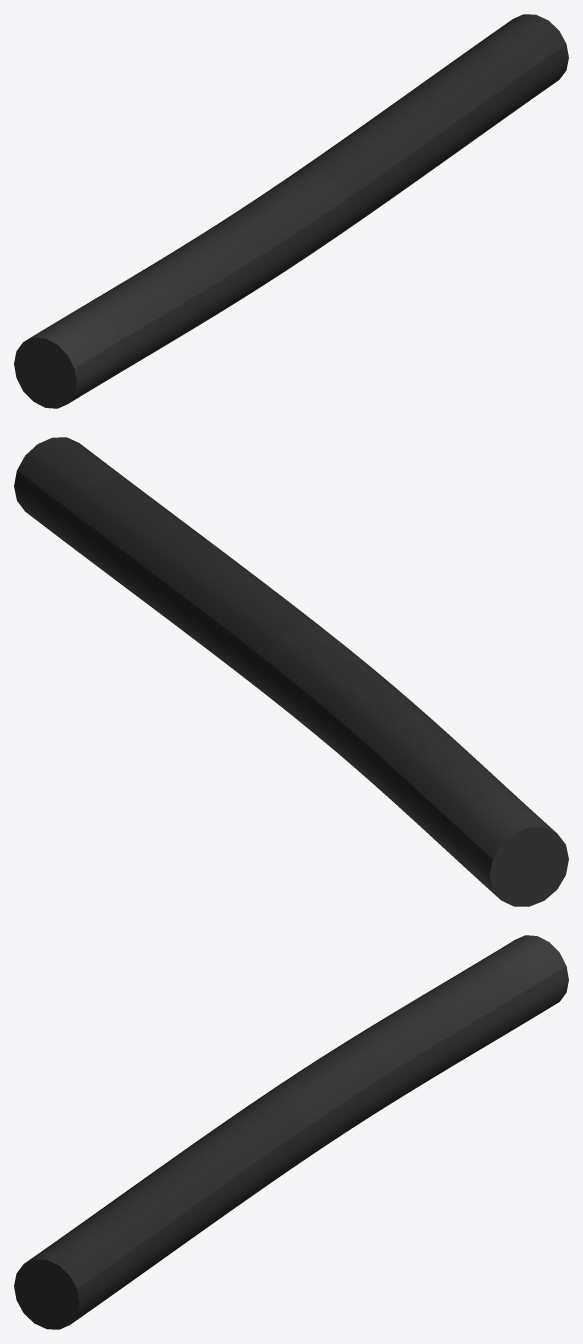
File: rear_support_arm__arm_tube.glb
The picture shows the model from 3 angles, top to bottom: view 1: azimuth 90°, elevation 25°; view 2: azimuth 150°, elevation 25°; view 3: azimuth 270°, elevation 25°; orthographic projection. The views are drawn at different scales.
Visible parts, largest first — view 1: world; view 2: world; view 3: world.
Boxes of the visible parts, box(x1,y1,x2,y2) form: world: box(14, 14, 568, 408); world: box(14, 437, 568, 906); world: box(14, 935, 568, 1329).
Bounding box in the file's own units: 0.3374 × 0.032 × 0.2318.
Materials: 1 (1 with a texture image).
